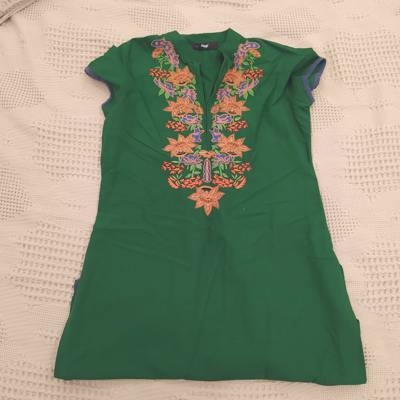Dress: (45, 21, 367, 390)
